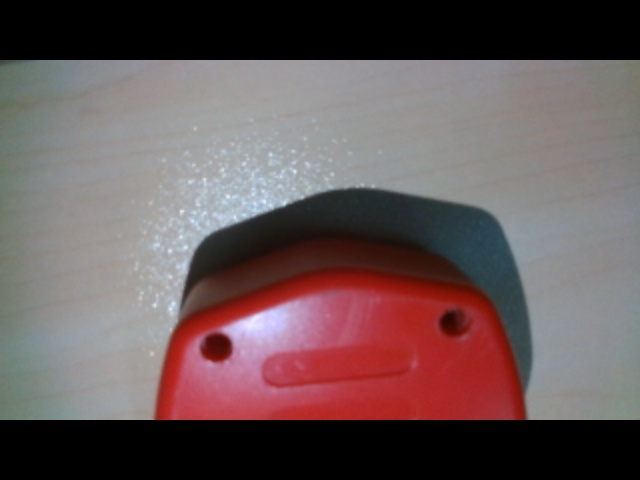Screw holes: (434, 302, 474, 340), (198, 331, 235, 364)
